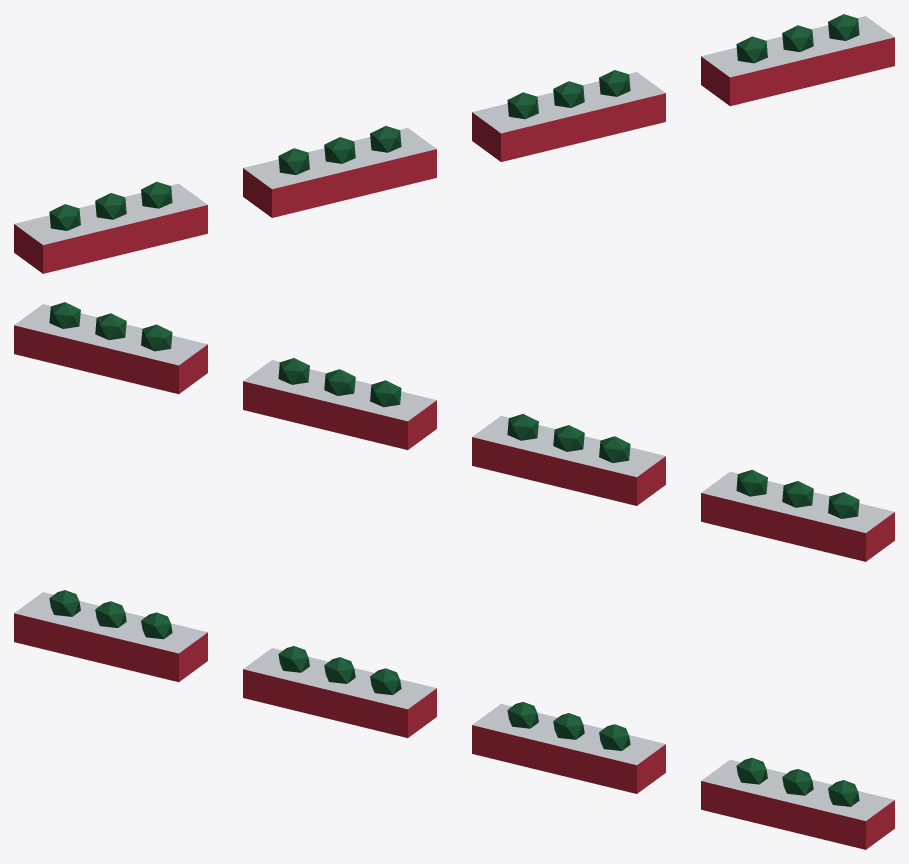
The model's file is Shop_Candy_Balconies.glb.
3 views of the same model, one above another, from view 1: azimuth 30°, elevation 25°; view 2: azimuth 150°, elevation 25°; view 3: azimuth 330°, elevation 25° (orthographic).
Visible parts, largest first — view 1: Shop_Candy_Balconies; view 2: Shop_Candy_Balconies; view 3: Shop_Candy_Balconies.
Part boxes in pixels (left/top/right/bottom): Shop_Candy_Balconies: left=14, top=14, right=894, bottom=273; Shop_Candy_Balconies: left=14, top=302, right=894, bottom=561; Shop_Candy_Balconies: left=14, top=590, right=894, bottom=849.
Bounding box in the file's own units: 18.6 × 1.05 × 1.1.
